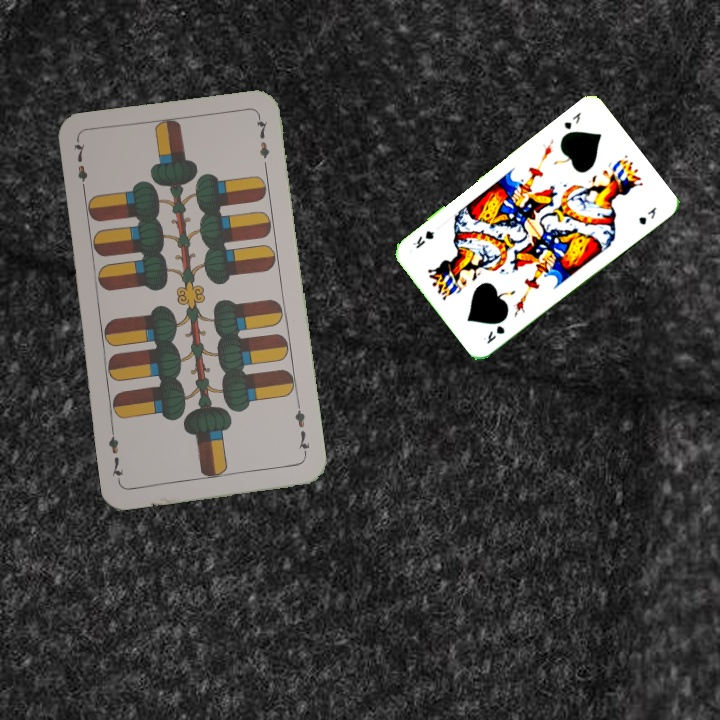E7: (290, 401, 313, 460), (69, 138, 91, 197)
GK: (483, 321, 507, 346), (560, 108, 584, 132)
